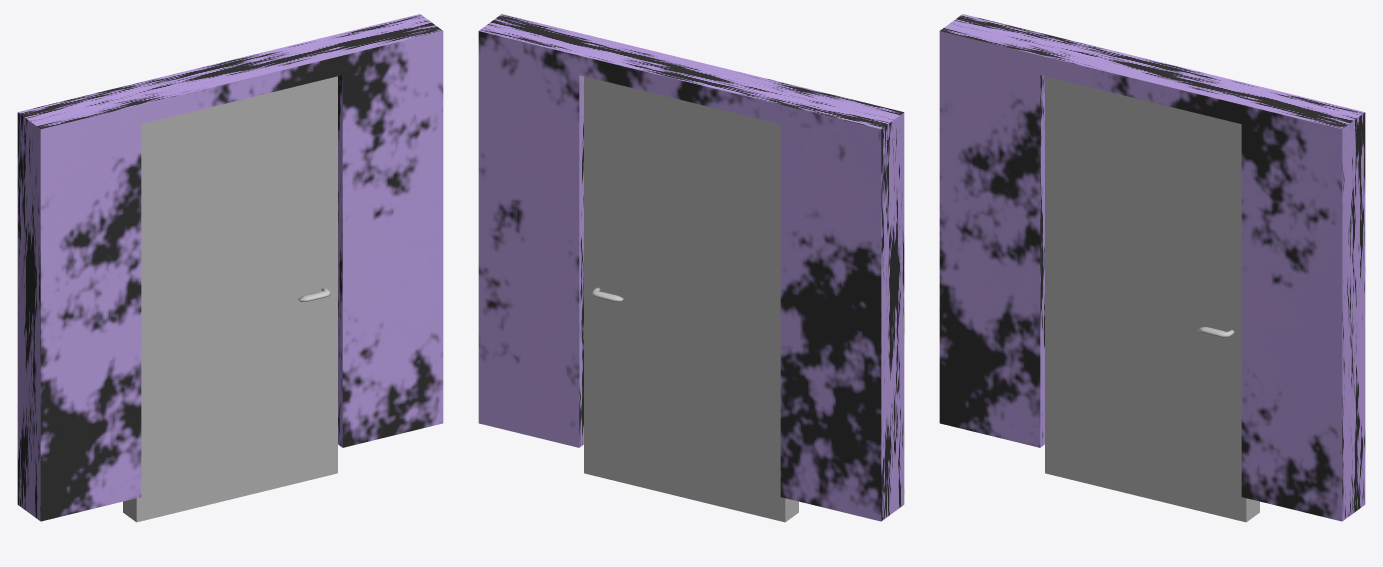
Rendered from Puerta3.fbx.
3 views of the same model, side by side, from view 1: azimuth 30°, elevation 25°; view 2: azimuth 150°, elevation 25°; view 3: azimuth 330°, elevation 25° (orthographic).
Visible parts, largest first — view 1: Marco Puerta, Puerta; view 2: Marco Puerta, Puerta; view 3: Marco Puerta, Puerta.
Boxes of the visible parts, x1=… form: Marco Puerta: x1=17, y1=14, x2=443, y2=521; Puerta: x1=123, y1=76, x2=337, y2=522; Marco Puerta: x1=478, y1=14, x2=904, y2=521; Puerta: x1=584, y1=76, x2=798, y2=522; Marco Puerta: x1=939, y1=14, x2=1365, y2=521; Puerta: x1=1045, y1=76, x2=1259, y2=522.
Bounding box in the file's own units: 200 × 200 × 25.64.
